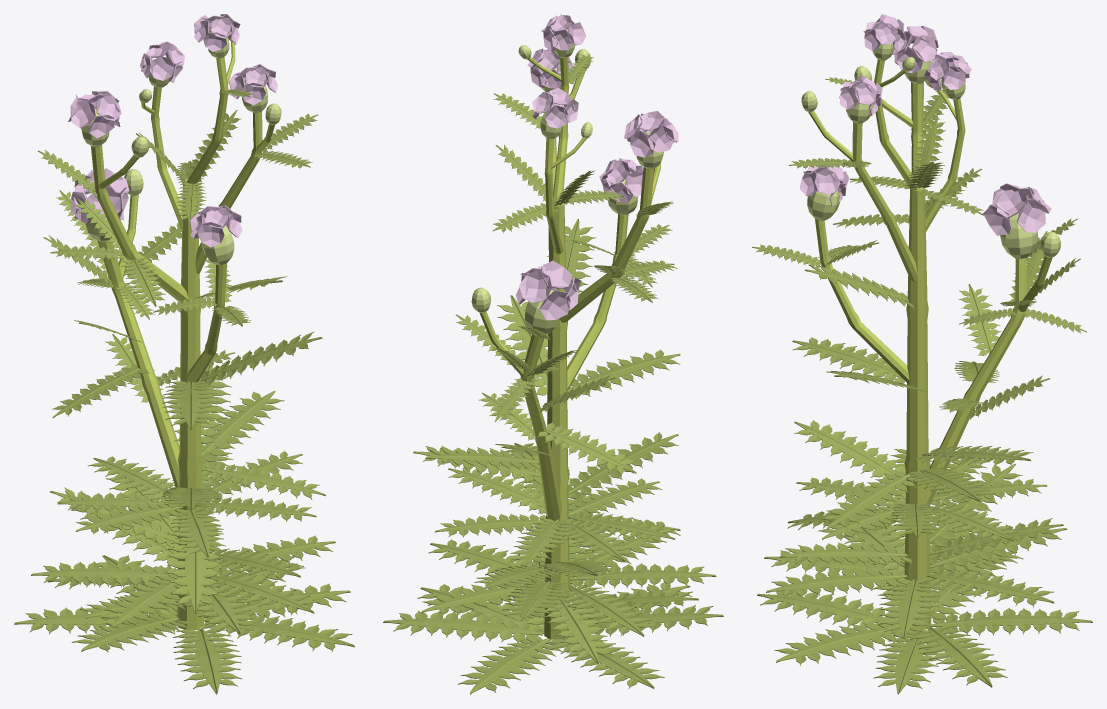
Rendered from full_canadathistle.fbx.
3 renders of one model, left to right at view 1: azimuth 30°, elevation 25°; view 2: azimuth 150°, elevation 25°; view 3: azimuth 270°, elevation 25°, orthographic. The views are drawn at different scales.
Parts seen in each view (by area): view 1: CanadaThistle1_main_stem; view 2: CanadaThistle1_main_stem; view 3: CanadaThistle1_main_stem.
Part boxes in pixels (box(x1,y1,x2,y2)): CanadaThistle1_main_stem: box(14, 14, 354, 694); CanadaThistle1_main_stem: box(383, 14, 723, 694); CanadaThistle1_main_stem: box(752, 14, 1092, 694).
Bounding box in the file's own units: 3.11 × 6.38 × 3.2.
